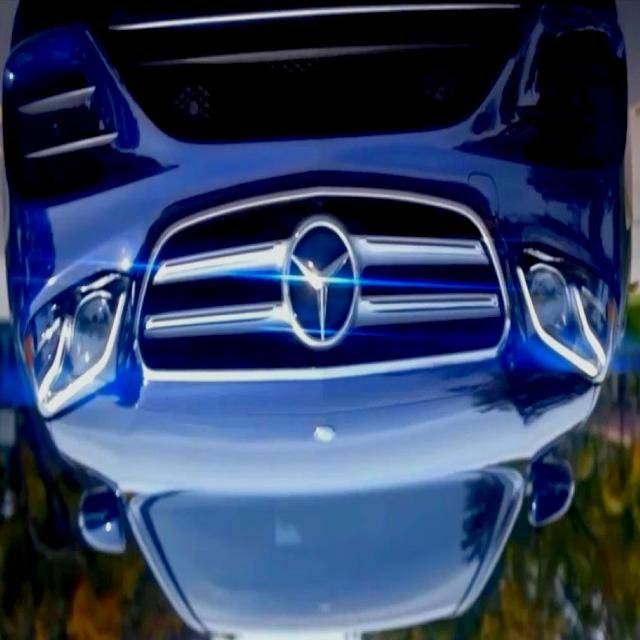blue: (5, 3, 630, 640)
